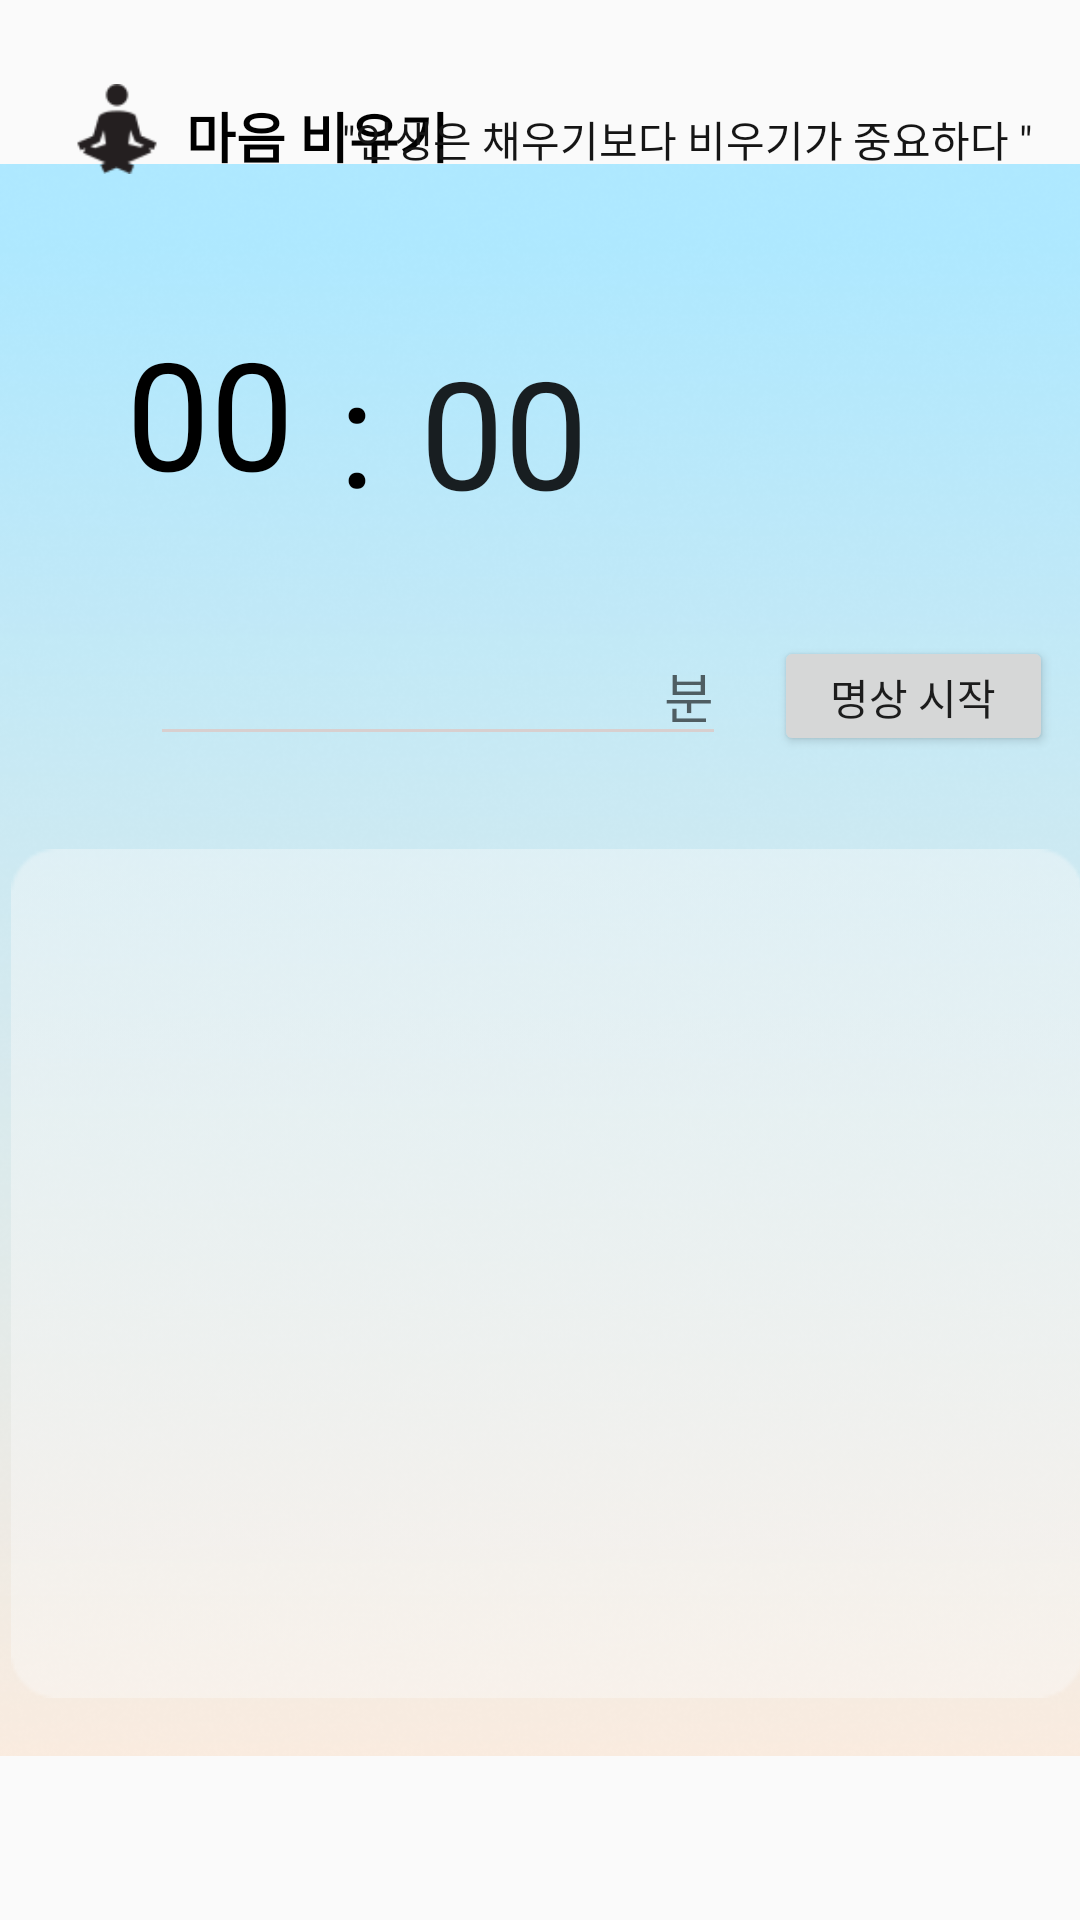

Locate icon controls on the screen. Image size 1080px x 1920px, boxes as (x1, y1, x2, y2).
medi: (72, 84, 162, 174)
